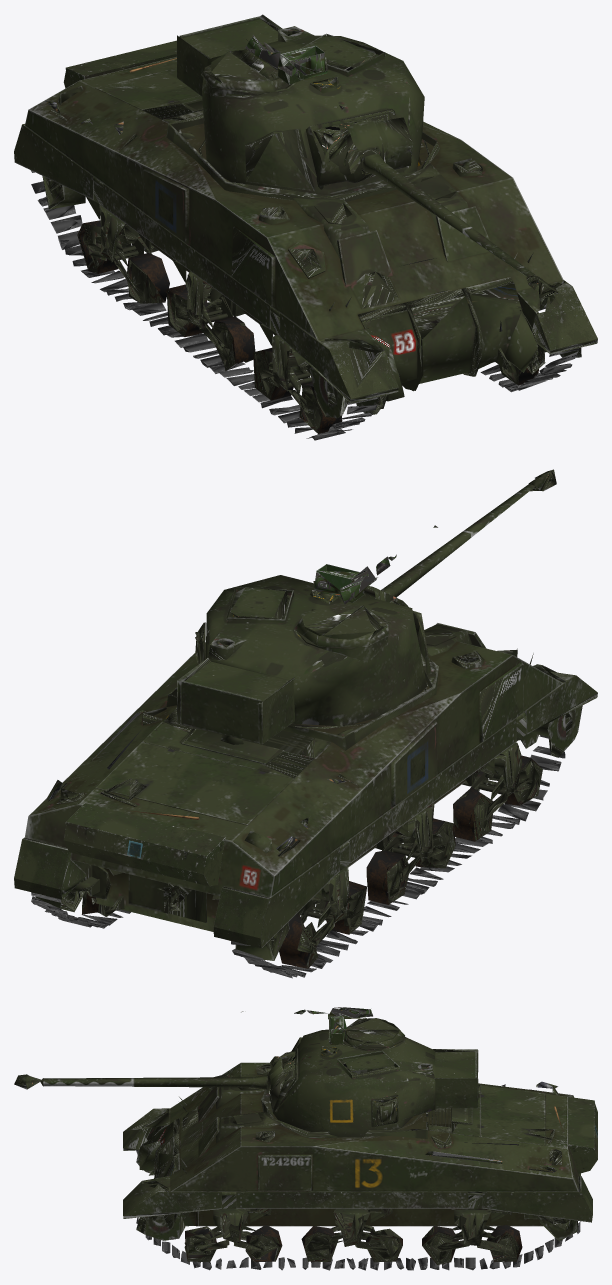
Rendered from sherman_firefly_barking_dogo_v3_pbr_lod4_uv.glb.
3 renders of one model, top to bottom at view 1: azimuth 30°, elevation 25°; view 2: azimuth 150°, elevation 25°; view 3: azimuth 270°, elevation 25°, orthographic. The views are drawn at different scales.
Visible parts, largest first — view 1: Object_14, Object_4, Object_125, Object_127, Object_110, Object_307, Object_22, Object_305; view 2: Object_14, Object_125, Object_4, Object_127, Object_110, Object_22, Object_307, Object_305; view 3: Object_14, Object_125, Object_4, Object_110, Object_127, Object_307, Object_22, Object_305.
Boxes of the visible parts, x1,y1,x2,y2 form: Object_14: [25, 57, 563, 340]; Object_4: [42, 68, 581, 418]; Object_125: [177, 14, 558, 298]; Object_127: [14, 124, 597, 403]; Object_110: [77, 196, 538, 433]; Object_307: [31, 170, 579, 440]; Object_22: [45, 40, 502, 331]; Object_305: [245, 35, 344, 109]; Object_14: [25, 641, 563, 931]; Object_125: [177, 469, 556, 745]; Object_4: [26, 623, 582, 960]; Object_127: [14, 664, 597, 948]; Object_110: [82, 742, 542, 968]; Object_22: [46, 710, 346, 886]; Object_307: [31, 735, 565, 978]; Object_305: [314, 525, 437, 604]; Object_14: [170, 1062, 580, 1226]; Object_125: [14, 1018, 478, 1138]; Object_4: [136, 1063, 577, 1241]; Object_110: [184, 1208, 522, 1264]; Object_127: [123, 1108, 592, 1222]; Object_307: [136, 1124, 580, 1270]; Object_22: [180, 1081, 597, 1173]; Object_305: [241, 1007, 372, 1045].
Size of the model in its own units: 2.7 by 3.08 by 7.78.
Materials: 8 (8 with a texture image).
